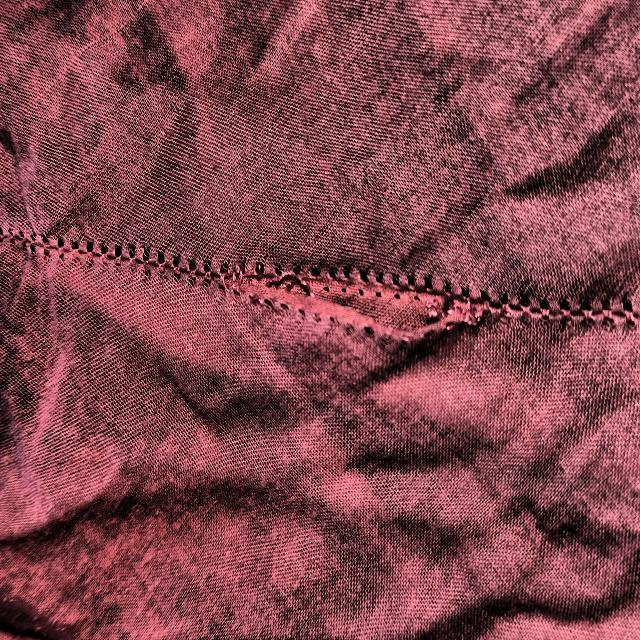seam: (160, 178, 600, 408)
